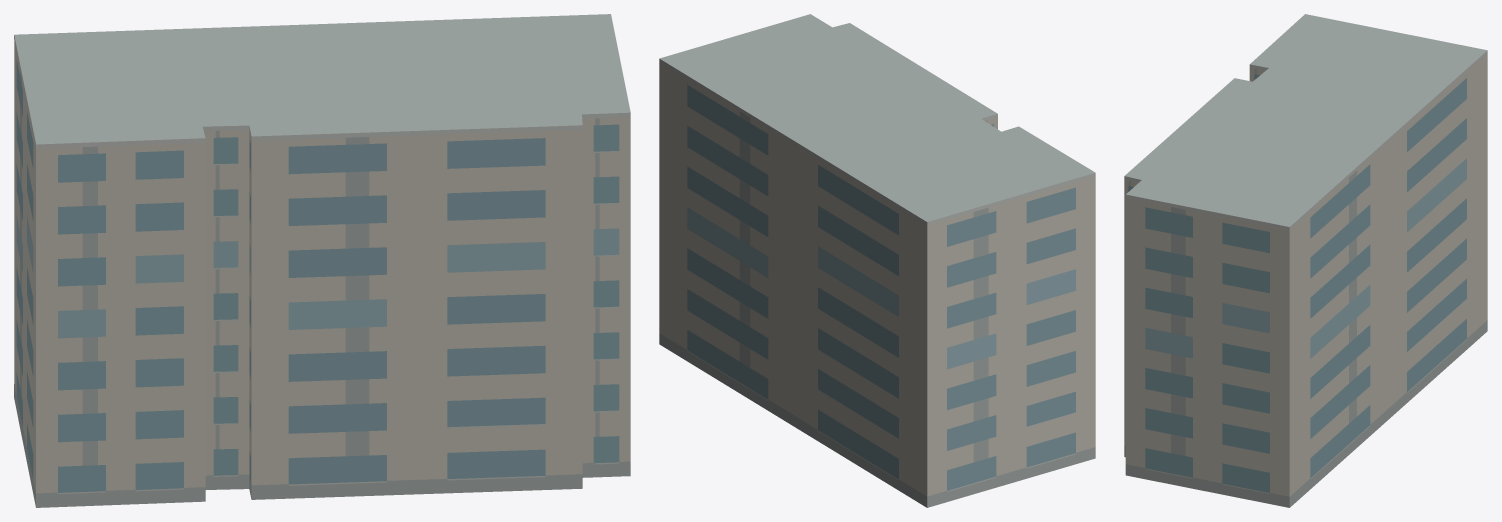
File: survey-upis-32955514.glb
3 views of the same model, side by side, from view 1: azimuth 30°, elevation 25°; view 2: azimuth 150°, elevation 25°; view 3: azimuth 270°, elevation 25° (orthographic). The views are drawn at different scales.
Parts seen in each view (by area): view 1: survey-upis-32955514.tmp; view 2: survey-upis-32955514.tmp; view 3: survey-upis-32955514.tmp.
Part boxes in pixels (x1=…): survey-upis-32955514.tmp: x1=14, y1=14, x2=630, y2=507; survey-upis-32955514.tmp: x1=659, y1=14, x2=1095, y2=507; survey-upis-32955514.tmp: x1=1124, y1=14, x2=1487, y2=507.
Bounding box in the file's own units: 32.87 × 20.2 × 23.69.
